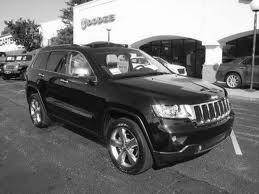car: (25, 44, 237, 177)
